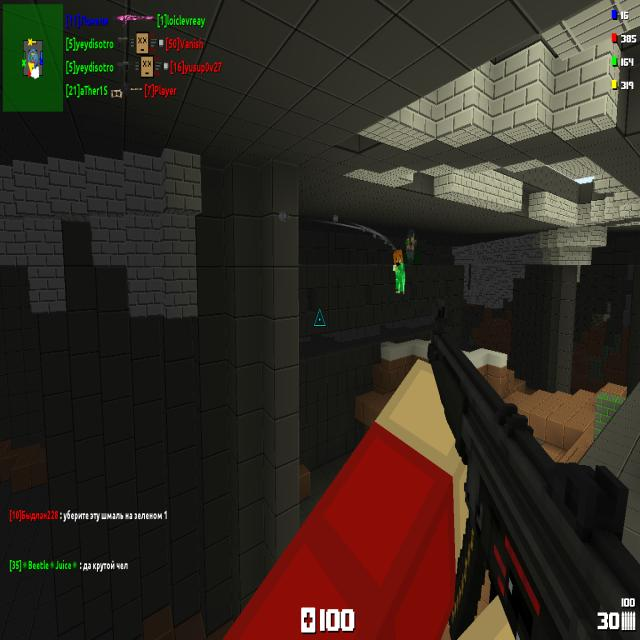enemy: (393, 250, 406, 296), (406, 229, 417, 264)
